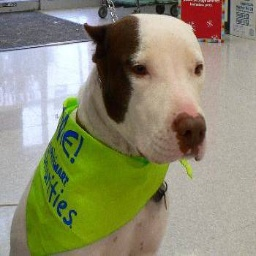dog: (14, 17, 207, 256)
